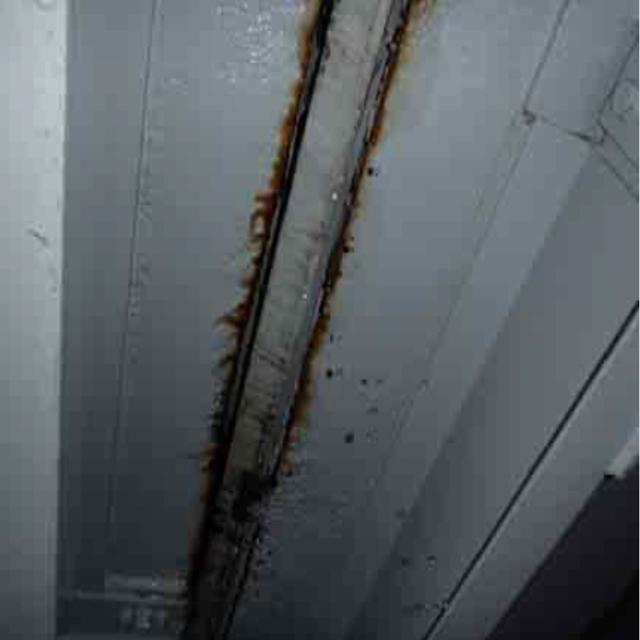corrosion: (156, 4, 433, 626)
